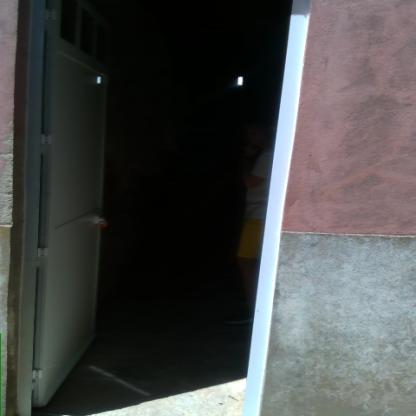open: (4, 1, 295, 406)
